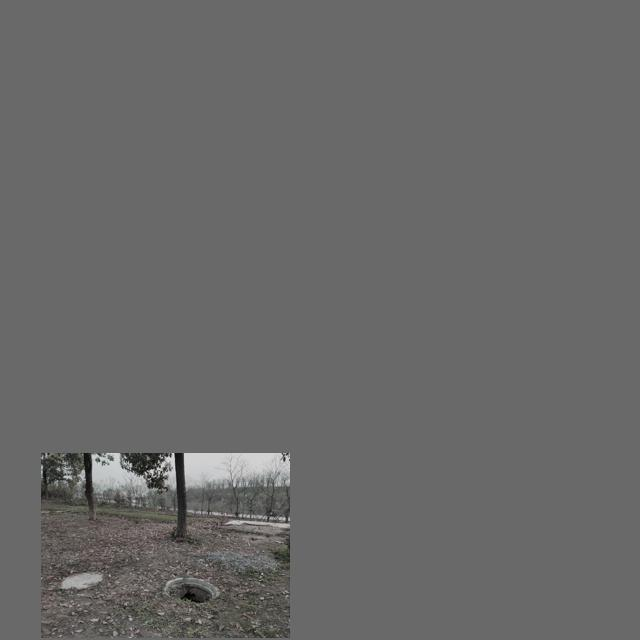lose: (163, 576, 219, 604)
